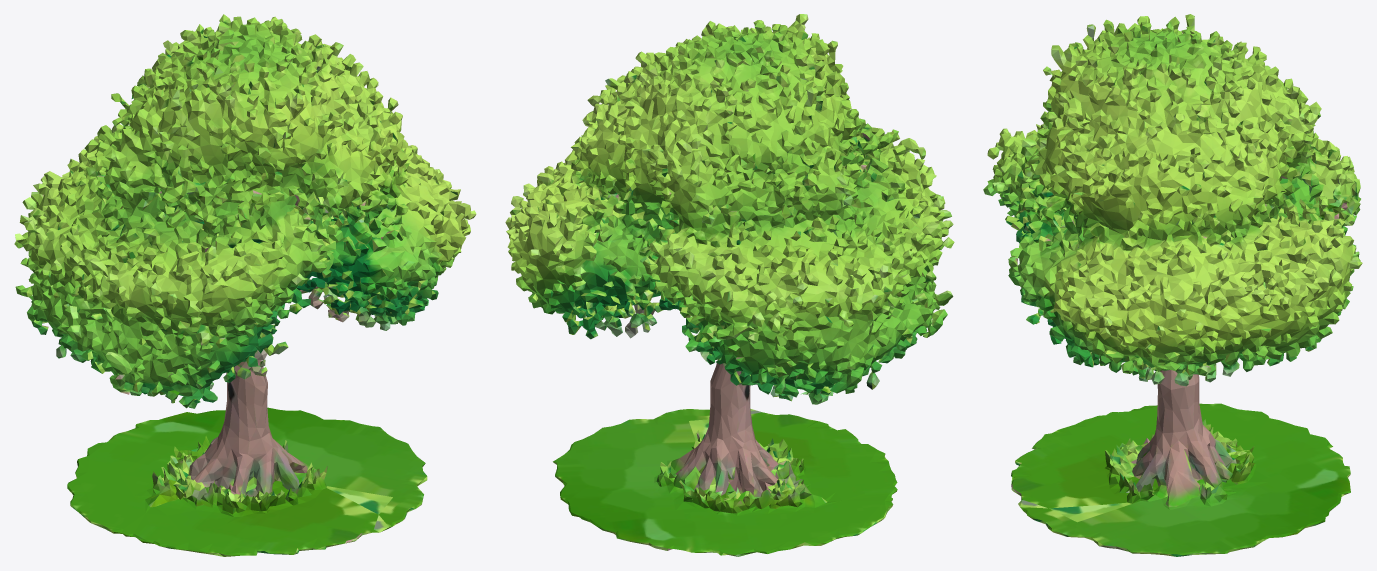
Rendered from tree_reia_sunlit_birch.glb.
The picture shows the model from 3 angles, left to right: view 1: azimuth 30°, elevation 25°; view 2: azimuth 150°, elevation 25°; view 3: azimuth 270°, elevation 25°; orthographic projection. The views are drawn at different scales.
Parts seen in each view (by area): view 1: tmp_vuin5gt.ply; view 2: tmp_vuin5gt.ply; view 3: tmp_vuin5gt.ply.
Part boxes in pixels (<box>): tmp_vuin5gt.ply: <box>14,14,476,556</box>; tmp_vuin5gt.ply: <box>505,14,954,556</box>; tmp_vuin5gt.ply: <box>983,14,1362,556</box>.
Bounding box in the file's own units: 1.81 × 1.99 × 1.55.
1 material, 1 textured.
